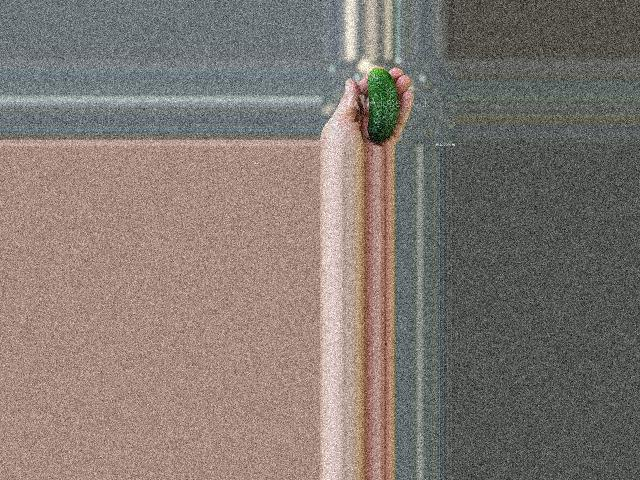cucumber: (368, 69, 400, 142)
